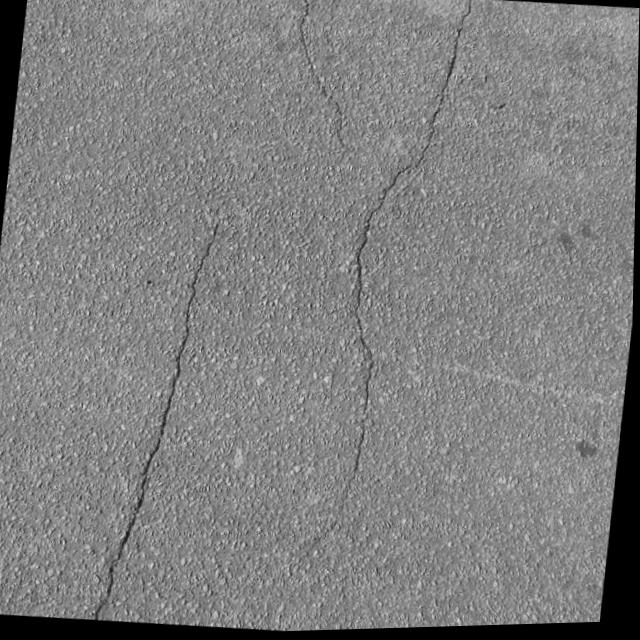Crack: (236, 0, 486, 522), (87, 190, 230, 628)
